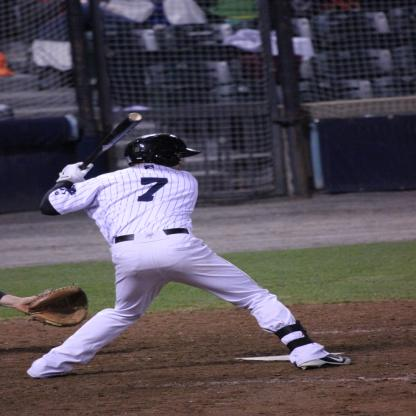Helmet: (109, 133, 198, 167)
